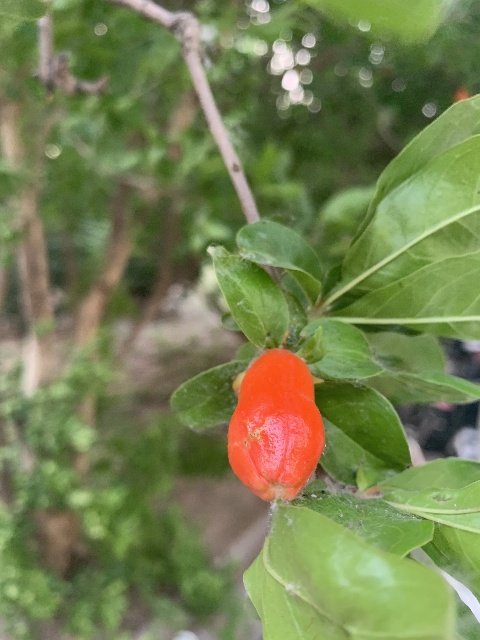bud: (227, 347, 324, 502)
